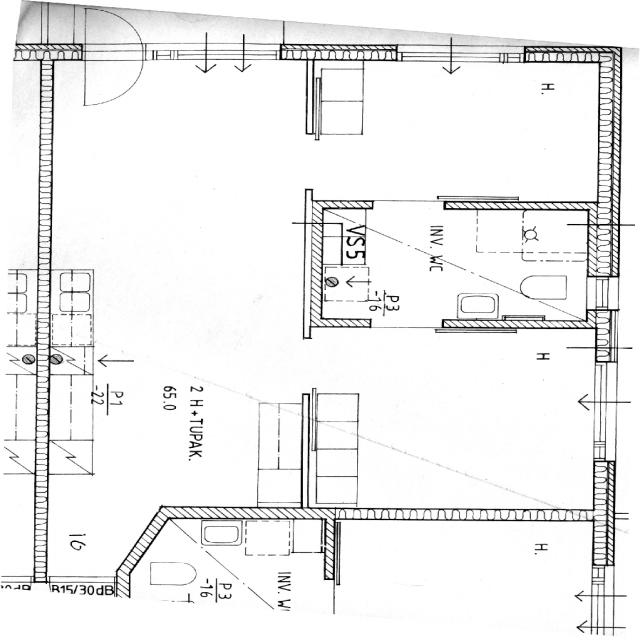door: (49, 577, 114, 633), (85, 44, 142, 104), (85, 0, 142, 60)
